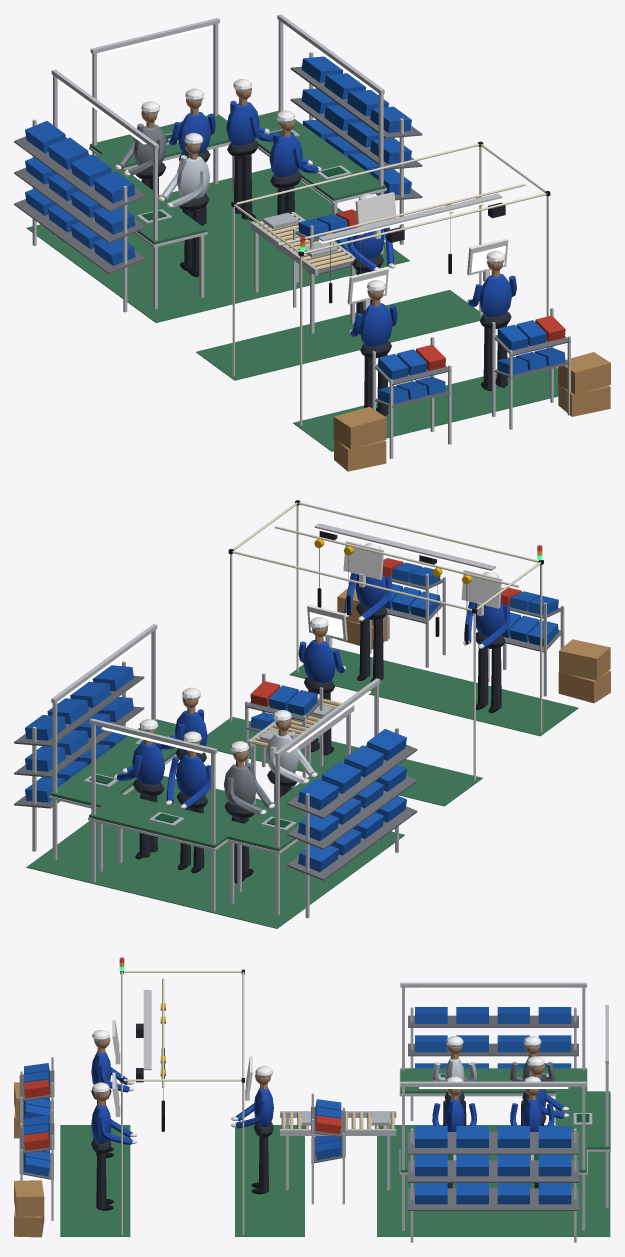
File: cells-plant.glb
The picture shows the model from 3 angles, top to bottom: view 1: azimuth 30°, elevation 25°; view 2: azimuth 150°, elevation 25°; view 3: azimuth 270°, elevation 25°; orthographic projection. The views are drawn at different scales.
Parts seen in each view (by area): view 1: CELLS.bay.floor, CELLS.u.floor, CELLS.u.benches, CELLS.u.bins, CELLS.u.operators, CELLS.u.feed, CELLS.bay.operators, CELLS.bay.bins, CELLS.bay.frame, CELLS.bay.racks, CELLS.bay.screens, CELLS.bay.lights (+1 smaller); view 2: CELLS.u.benches, CELLS.u.floor, CELLS.bay.floor, CELLS.u.bins, CELLS.u.operators, CELLS.u.feed, CELLS.bay.operators, CELLS.bay.bins, CELLS.bay.frame, CELLS.bay.racks, CELLS.bay.screens, CELLS.bay.lights (+2 smaller); view 3: CELLS.bay.floor, CELLS.u.bins, CELLS.u.benches, CELLS.u.feed, CELLS.u.floor, CELLS.bay.operators, CELLS.u.operators, CELLS.bay.bins, CELLS.bay.racks, CELLS.bay.frame, CELLS.bay.screens, CELLS.bay.lights (+1 smaller).
Boxes of the visible parts, <box> form: CELLS.bay.floor: <box>196,290,610,471</box>; CELLS.u.floor: <box>26,168,409,322</box>; CELLS.u.benches: <box>51,14,386,309</box>; CELLS.u.bins: <box>25,56,411,265</box>; CELLS.u.operators: <box>115,79,321,276</box>; CELLS.u.feed: <box>14,52,422,333</box>; CELLS.bay.operators: <box>347,193,516,416</box>; CELLS.bay.bins: <box>298,209,565,404</box>; CELLS.bay.frame: <box>232,143,548,425</box>; CELLS.bay.racks: <box>293,225,570,458</box>; CELLS.bay.screens: <box>347,192,508,310</box>; CELLS.bay.lights: <box>300,193,501,251</box>; CELLS.u.benches: <box>49,624,380,915</box>; CELLS.u.floor: <box>26,776,404,928</box>; CELLS.bay.floor: <box>206,586,610,806</box>; CELLS.u.bins: <box>25,665,406,872</box>; CELLS.u.operators: <box>113,687,317,883</box>; CELLS.u.feed: <box>14,661,417,918</box>; CELLS.bay.operators: <box>298,543,510,755</box>; CELLS.bay.bins: <box>250,558,558,729</box>; CELLS.bay.frame: <box>230,502,542,780</box>; CELLS.bay.racks: <box>245,574,564,778</box>; CELLS.bay.screens: <box>307,531,502,647</box>; CELLS.bay.lights: <box>314,523,542,572</box>; CELLS.bay.floor: <box>14,1082,304,1237</box>; CELLS.u.bins: <box>301,1007,571,1204</box>; CELLS.u.benches: <box>399,982,610,1230</box>; CELLS.u.feed: <box>280,1007,578,1242</box>; CELLS.u.floor: <box>377,1125,610,1236</box>; CELLS.bay.operators: <box>91,1030,273,1210</box>; CELLS.u.operators: <box>432,1036,568,1188</box>; CELLS.bay.bins: <box>23,1063,341,1176</box>; CELLS.bay.racks: <box>19,1057,345,1220</box>; CELLS.bay.frame: <box>121,971,244,1235</box>; CELLS.bay.screens: <box>112,1020,252,1116</box>; CELLS.bay.lights: <box>119,957,151,1072</box>.
Size of the model in its own units: 4.2 by 2.4 by 7.68.
